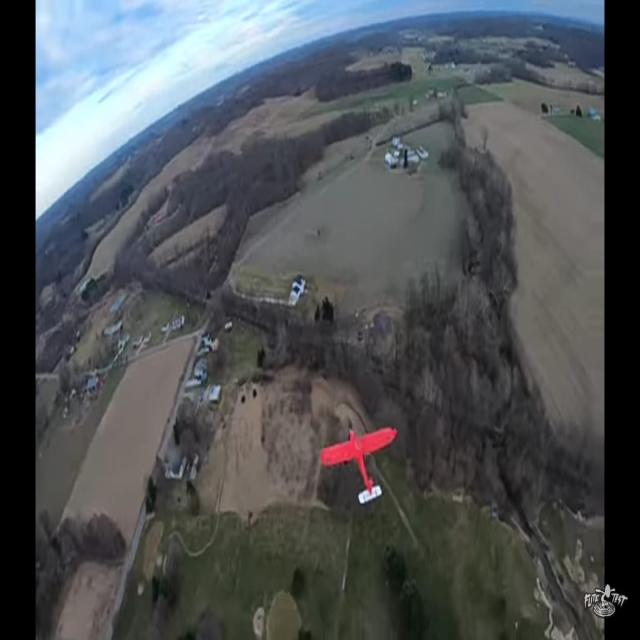iha: (351, 458, 367, 475)
